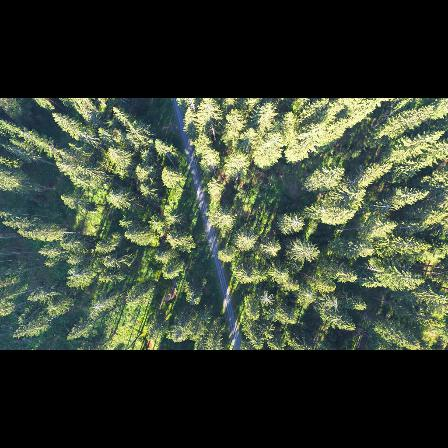Sick: (257, 290, 278, 308), (288, 213, 306, 230), (314, 204, 332, 218)
